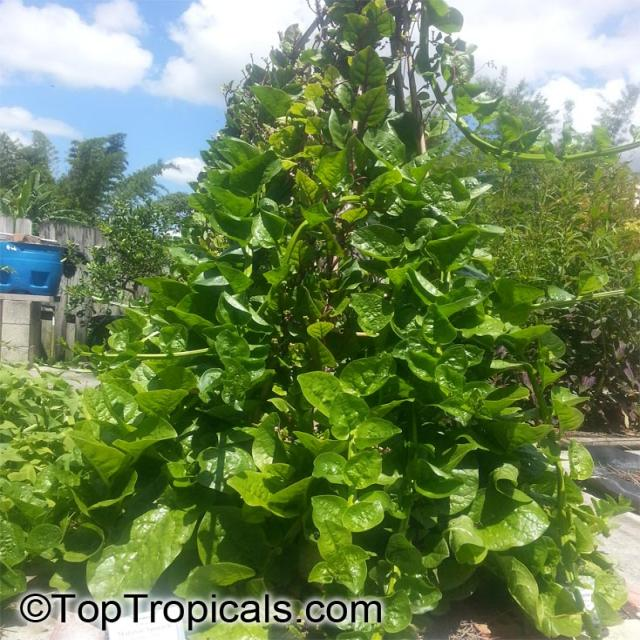Medicinal-Basale: (209, 122, 512, 568)
